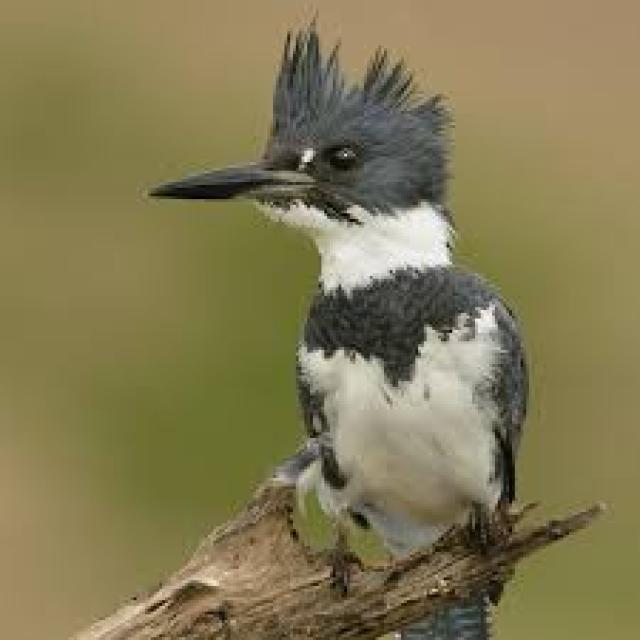kingfisher: (108, 12, 606, 600)
